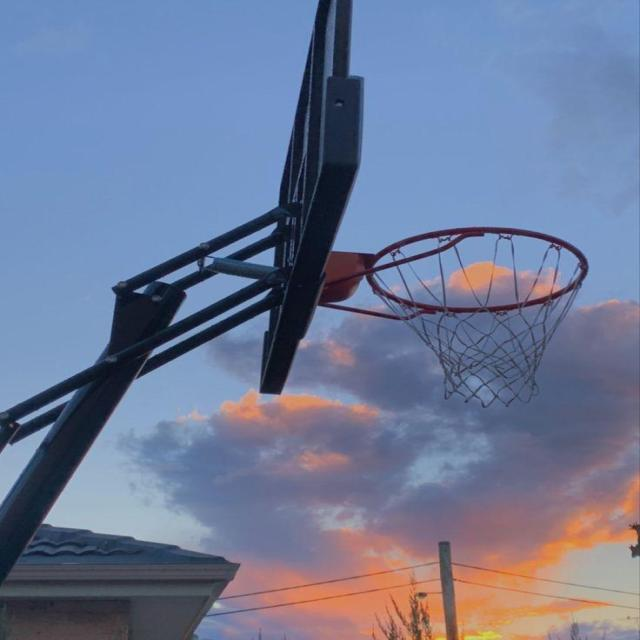hoop: (335, 226, 615, 420)
